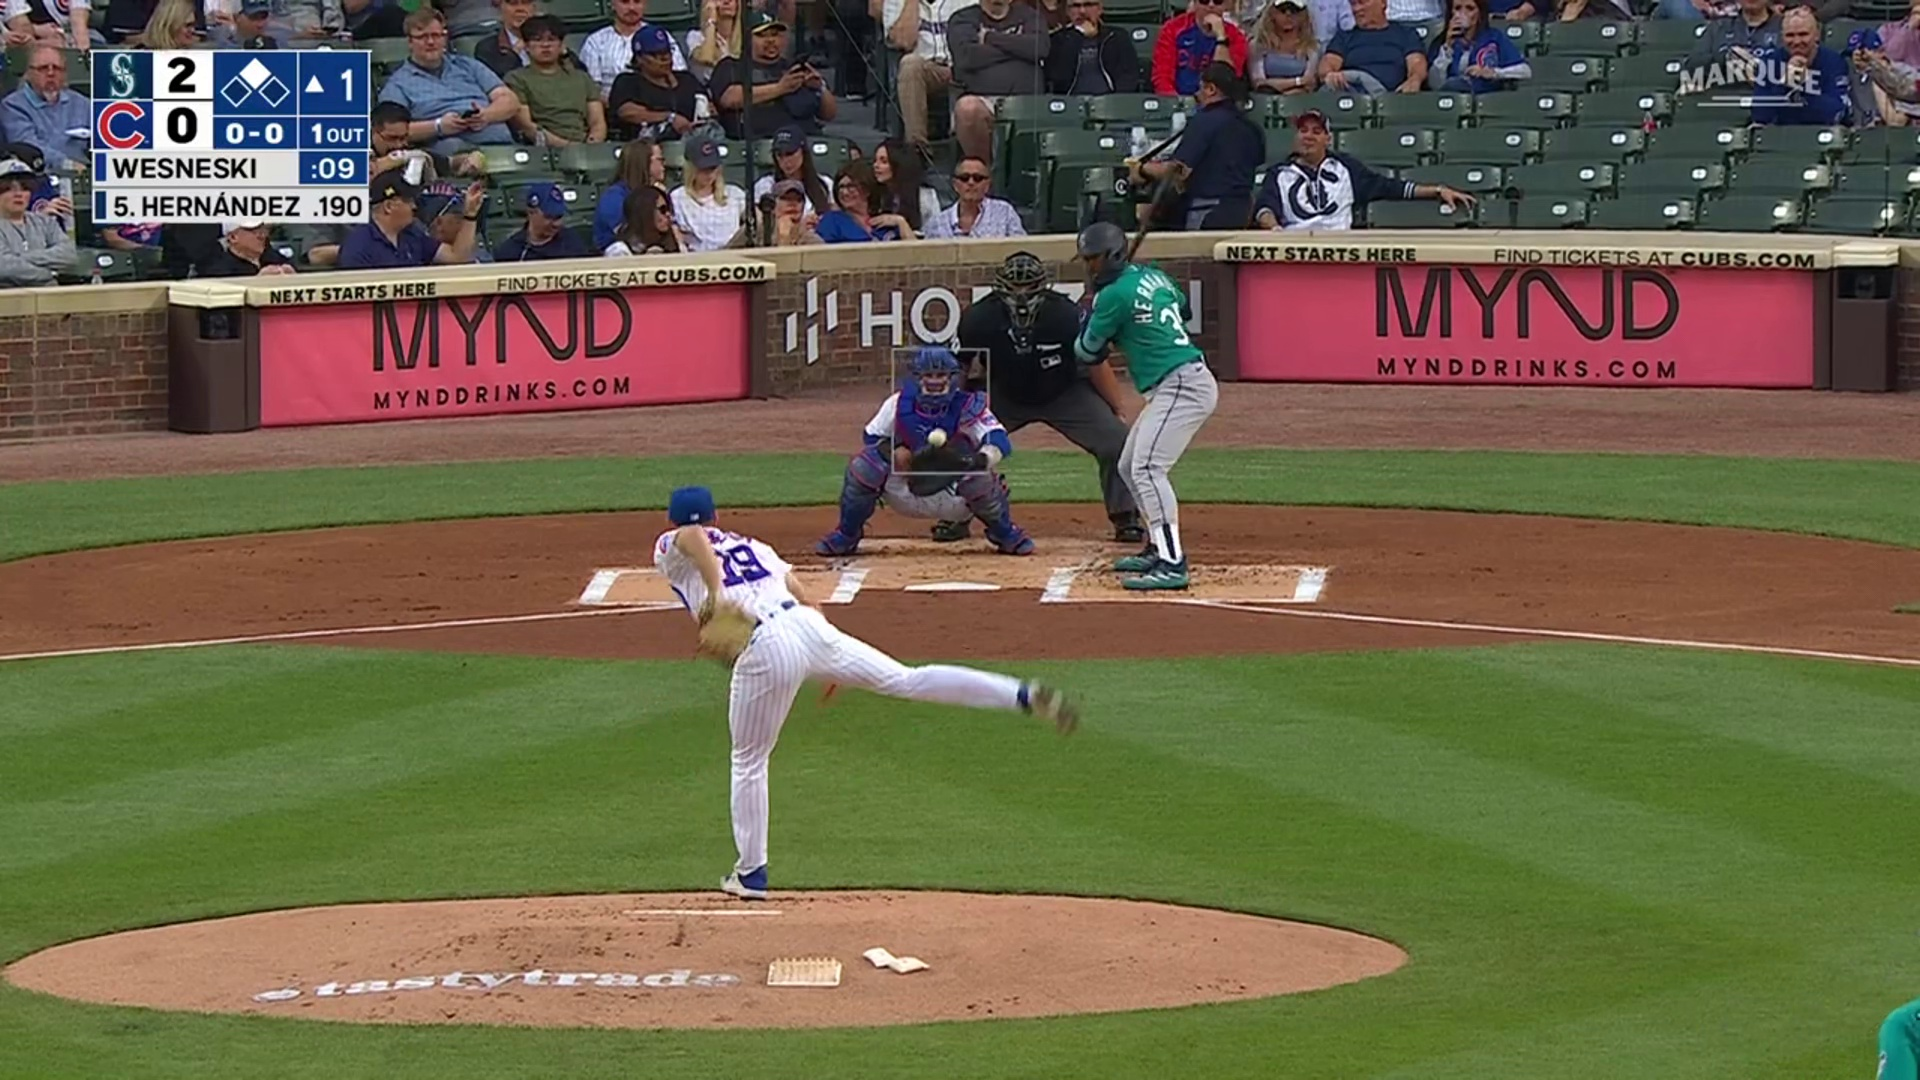baseball: (927, 427, 945, 446)
